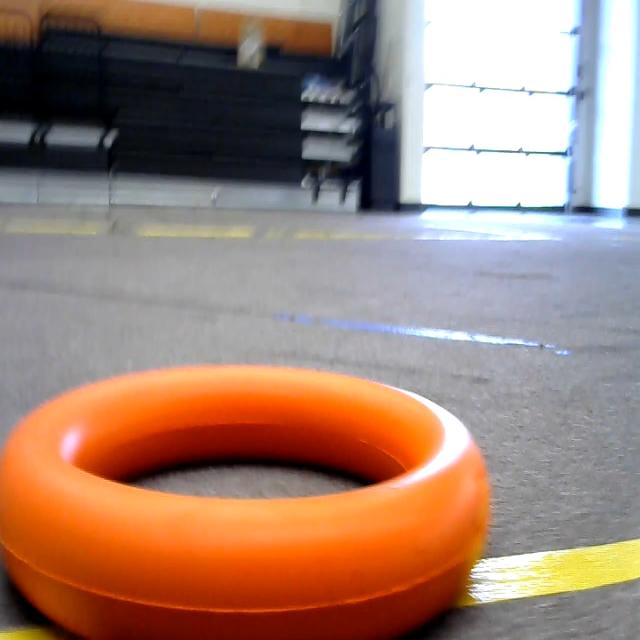note: (0, 364, 500, 639)
